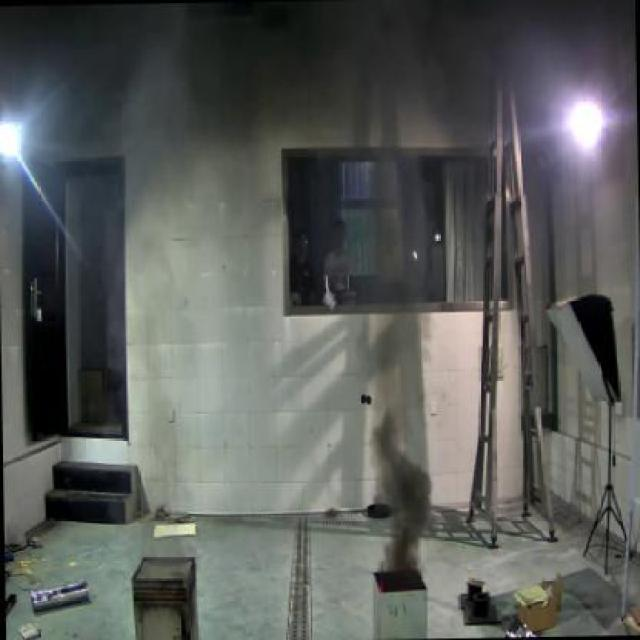fire: (370, 408, 436, 569)
